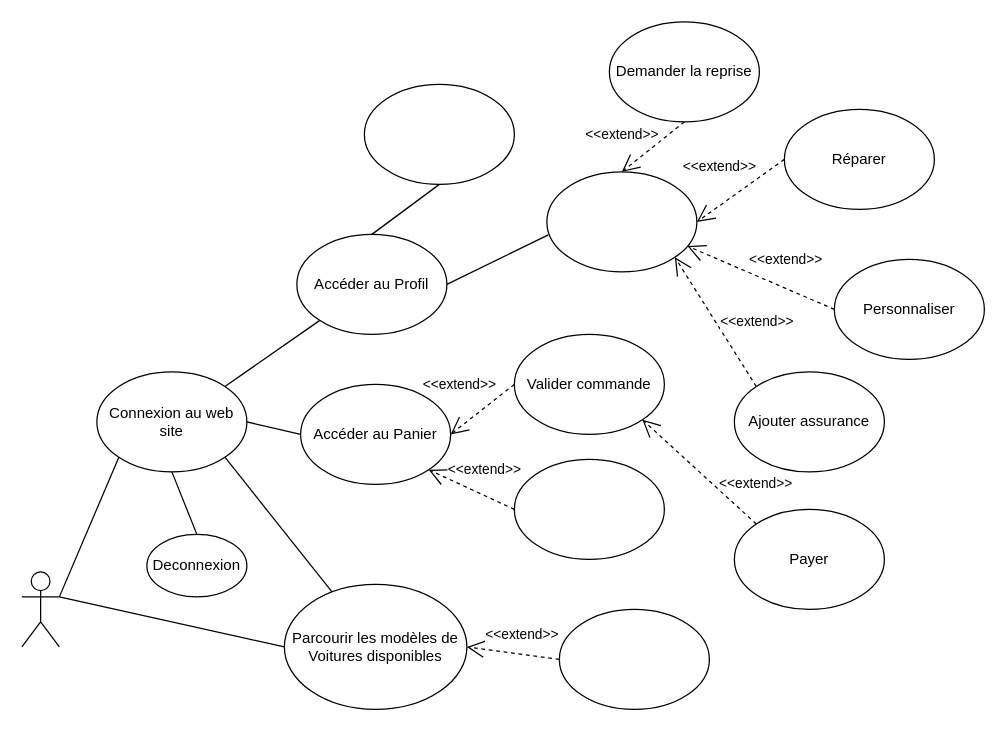
Image size: 1006x731. Some labels were removed from this diagram. The box of each missing label's shape, as (x1, y1, x2, y2) in pixels:
Ajouter au panier: (558, 608, 709, 709)
Client: (21, 571, 59, 647)
Gérer voiture: (546, 171, 697, 272)
Modifier profil: (363, 83, 514, 184)
Supprimer article: (513, 458, 664, 559)
